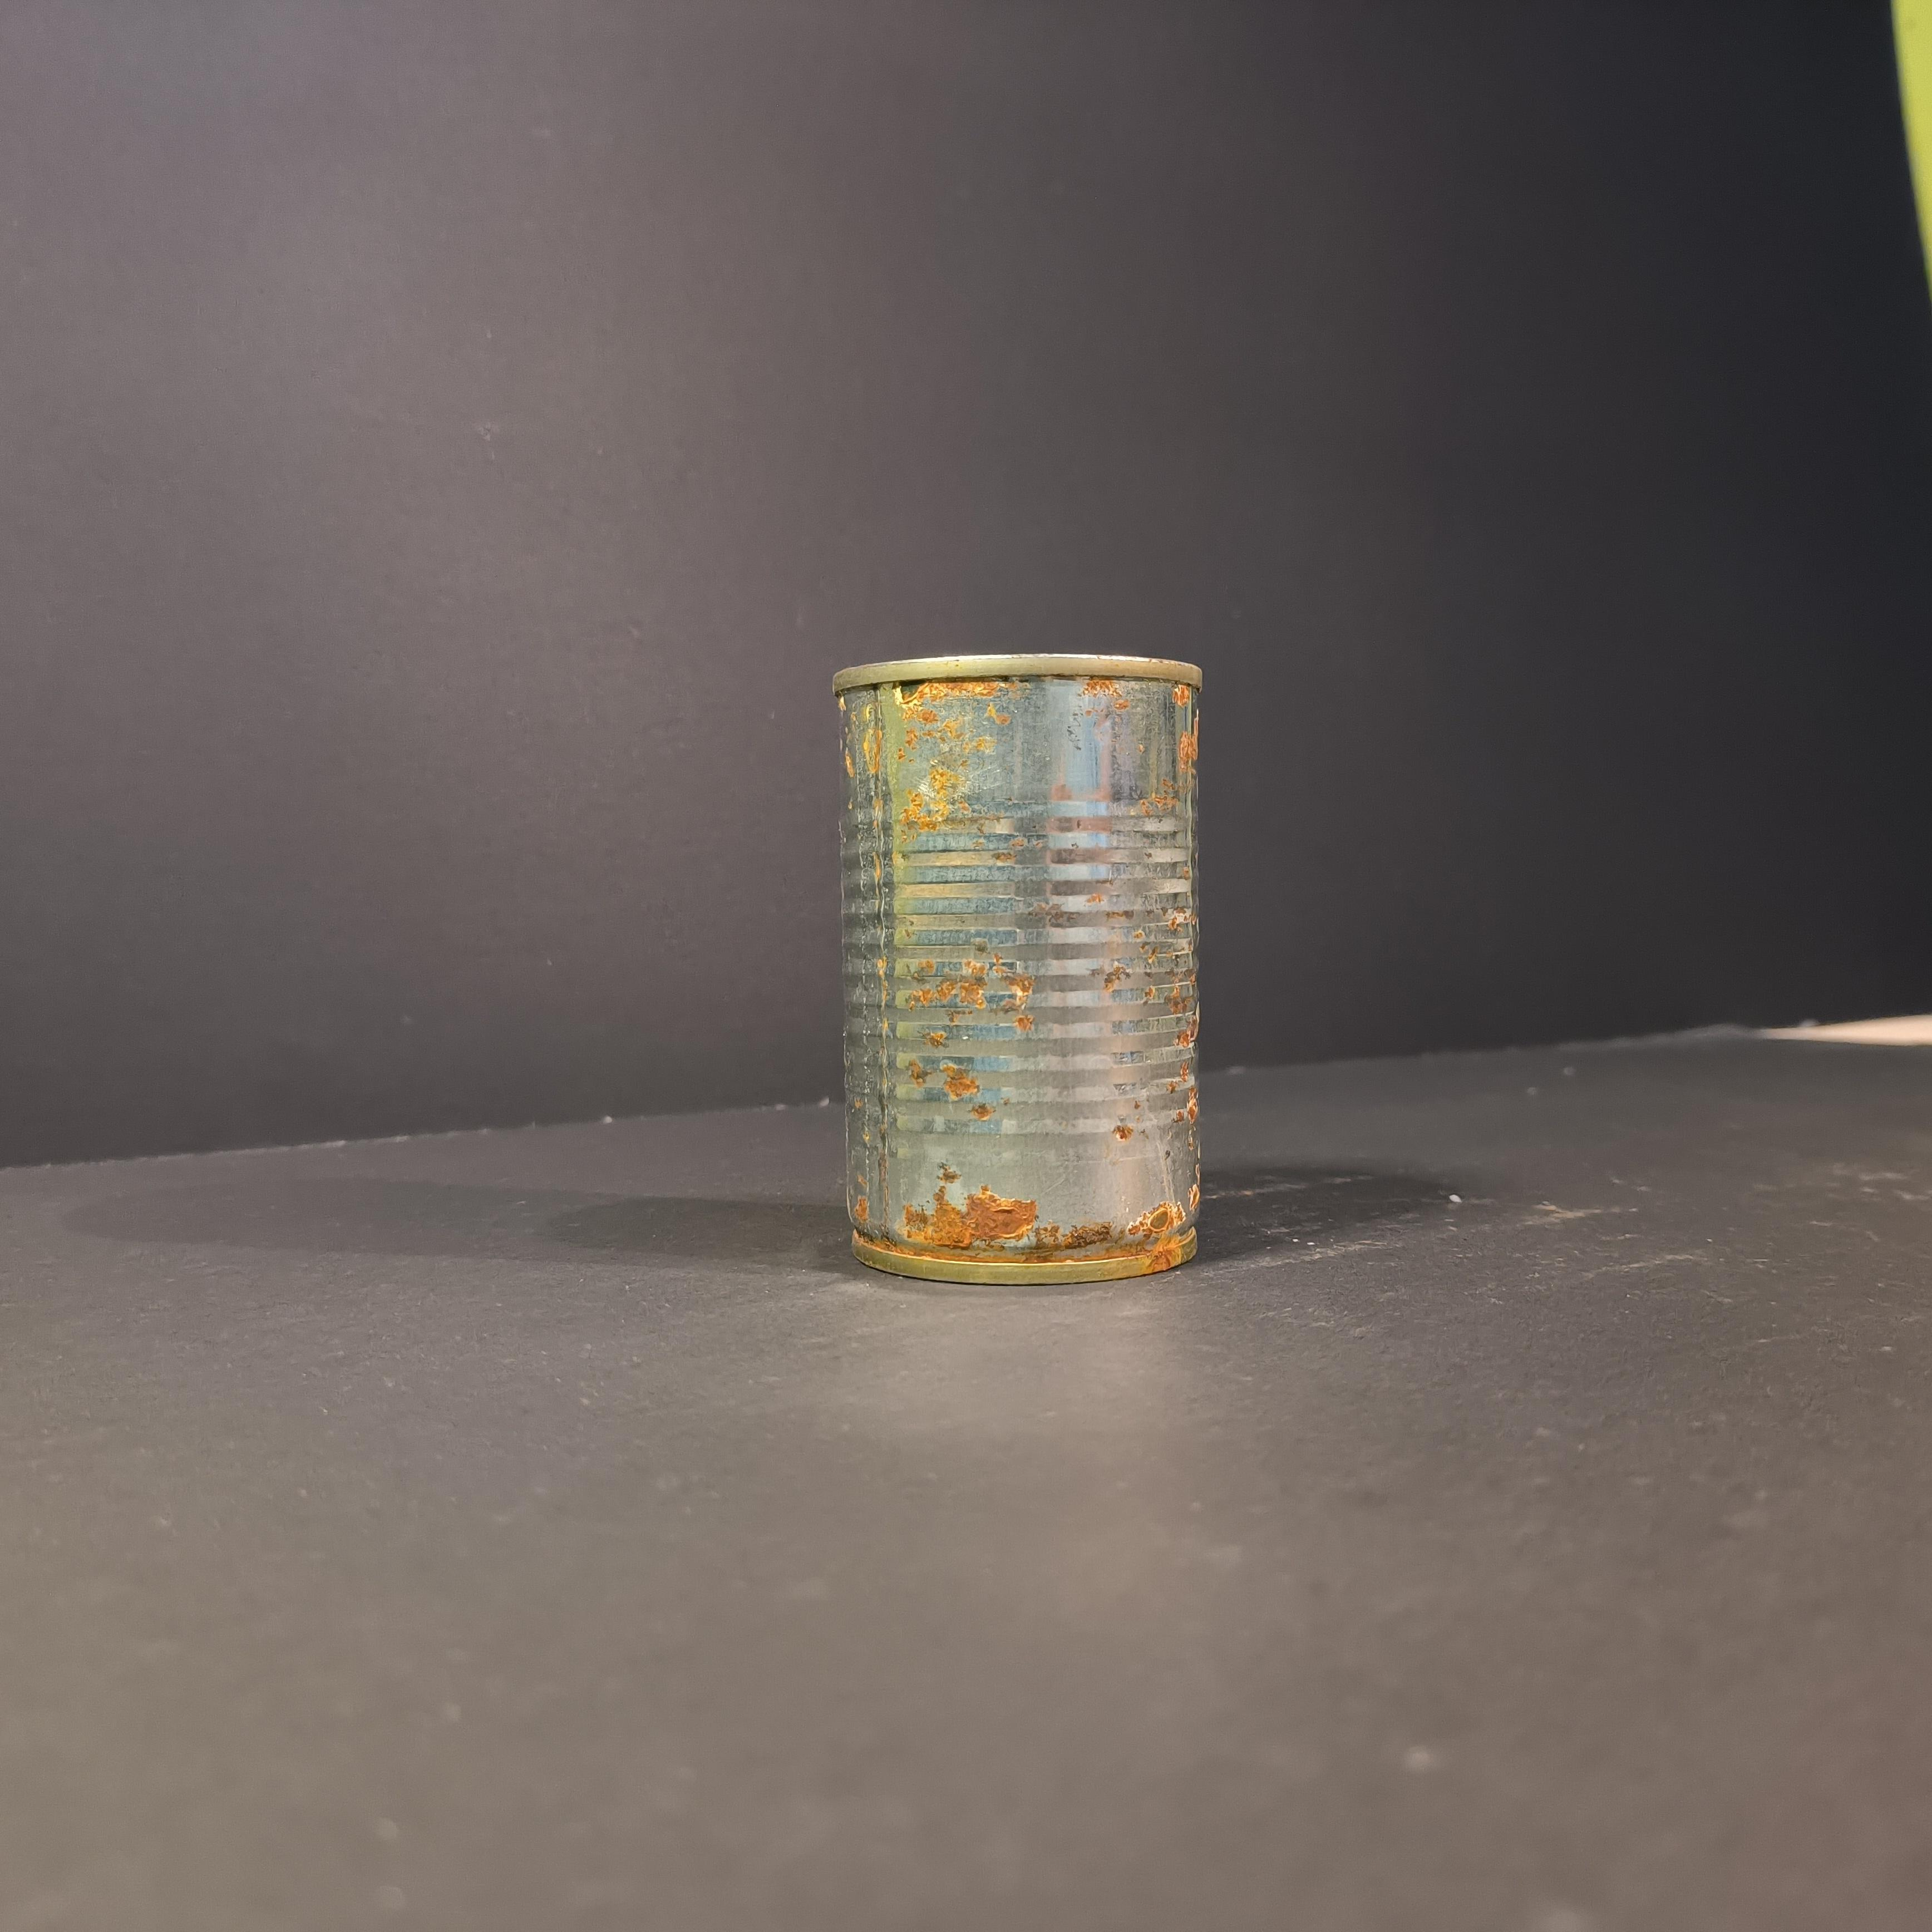Rusted: (817, 632, 1224, 1292)
